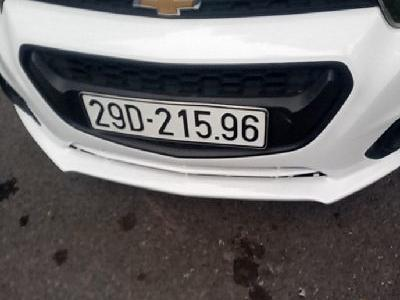lisence: (79, 90, 269, 151)
